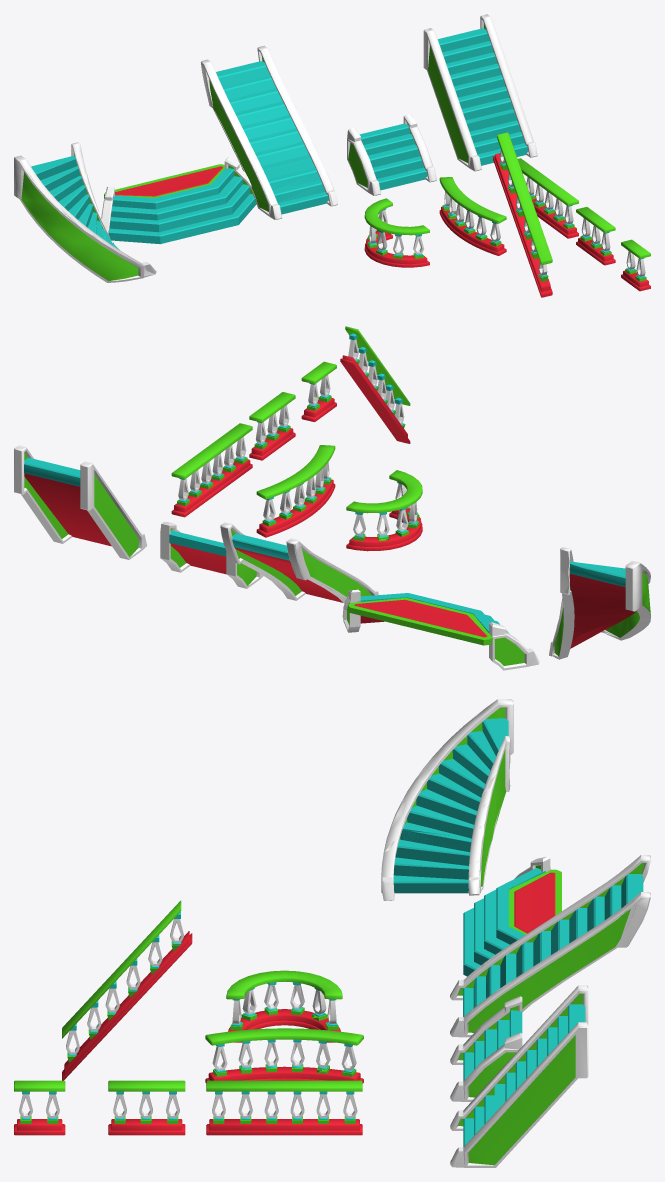
Rendered from Exterior_Deco00.fbx.
3 renders of one model, top to bottom at view 1: azimuth 30°, elevation 25°; view 2: azimuth 150°, elevation 25°; view 3: azimuth 270°, elevation 25°, orthographic. The views are drawn at different scales.
Visible parts, largest first — view 1: StraightStair005, StraightStair001, Box122, StraightStair009, StraightStair003, StraightStair010, Box133, StraightStair006, Box129, Box131, Box123, StraightStair002 (+3 smaller); view 2: StraightStair001, Box122, StraightStair009, StraightStair005, Box123, Box129, Box131, Box133, StraightStair006, StraightStair003, Box125, StraightStair010 (+5 smaller); view 3: StraightStair009, StraightStair005, StraightStair001, Box122, Box123, StraightStair006, Box133, Box129, StraightStair002, Box131, StraightStair010, StraightStair003 (+4 smaller).
Boxes of the visible parts, x1,y1,x2,y2 form: StraightStair005: [201, 45, 337, 219]; StraightStair001: [423, 14, 537, 171]; Box122: [101, 157, 256, 244]; StraightStair009: [14, 142, 156, 282]; StraightStair003: [347, 114, 436, 195]; StraightStair010: [21, 147, 154, 280]; Box133: [493, 132, 552, 297]; StraightStair006: [202, 50, 337, 219]; Box129: [439, 177, 506, 255]; Box131: [364, 198, 429, 267]; Box123: [518, 158, 578, 238]; StraightStair002: [428, 39, 537, 171]; StraightStair001: [14, 445, 146, 559]; Box122: [343, 589, 539, 670]; StraightStair009: [549, 547, 650, 659]; StraightStair005: [220, 522, 378, 602]; Box123: [171, 423, 252, 517]; Box129: [256, 445, 335, 537]; Box131: [346, 470, 422, 551]; Box133: [340, 326, 410, 443]; StraightStair006: [220, 525, 376, 603]; StraightStair003: [160, 522, 260, 588]; Box125: [249, 392, 295, 460]; StraightStair010: [551, 552, 650, 657]; StraightStair009: [381, 699, 513, 900]; StraightStair005: [450, 855, 650, 1037]; StraightStair001: [450, 985, 588, 1167]; Box122: [463, 856, 561, 976]; Box123: [206, 1080, 362, 1135]; StraightStair006: [450, 859, 650, 1037]; Box133: [62, 900, 192, 1080]; Box129: [205, 1028, 363, 1083]; StraightStair002: [450, 990, 586, 1167]; Box131: [226, 970, 342, 1042]; StraightStair010: [382, 707, 509, 898]; StraightStair003: [450, 996, 522, 1101].
Bounding box in the file's own units: 155 × 38.44 × 127.
